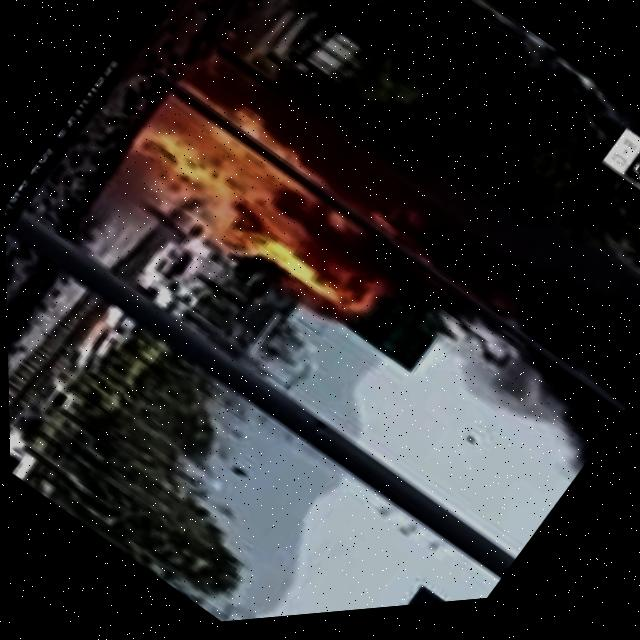Fire: (100, 48, 430, 367)
Smoke: (262, 38, 640, 443), (485, 356, 622, 495)
